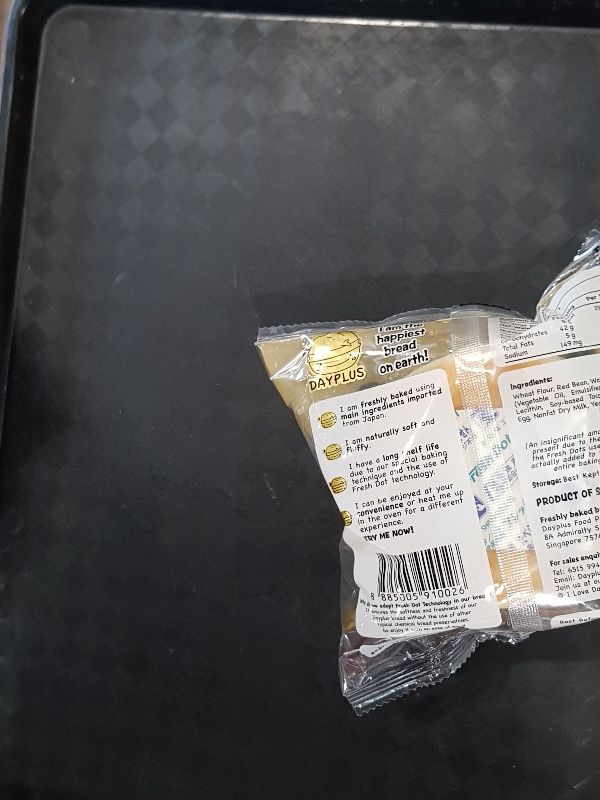Dayplus Red Bean: (255, 227, 600, 719)
